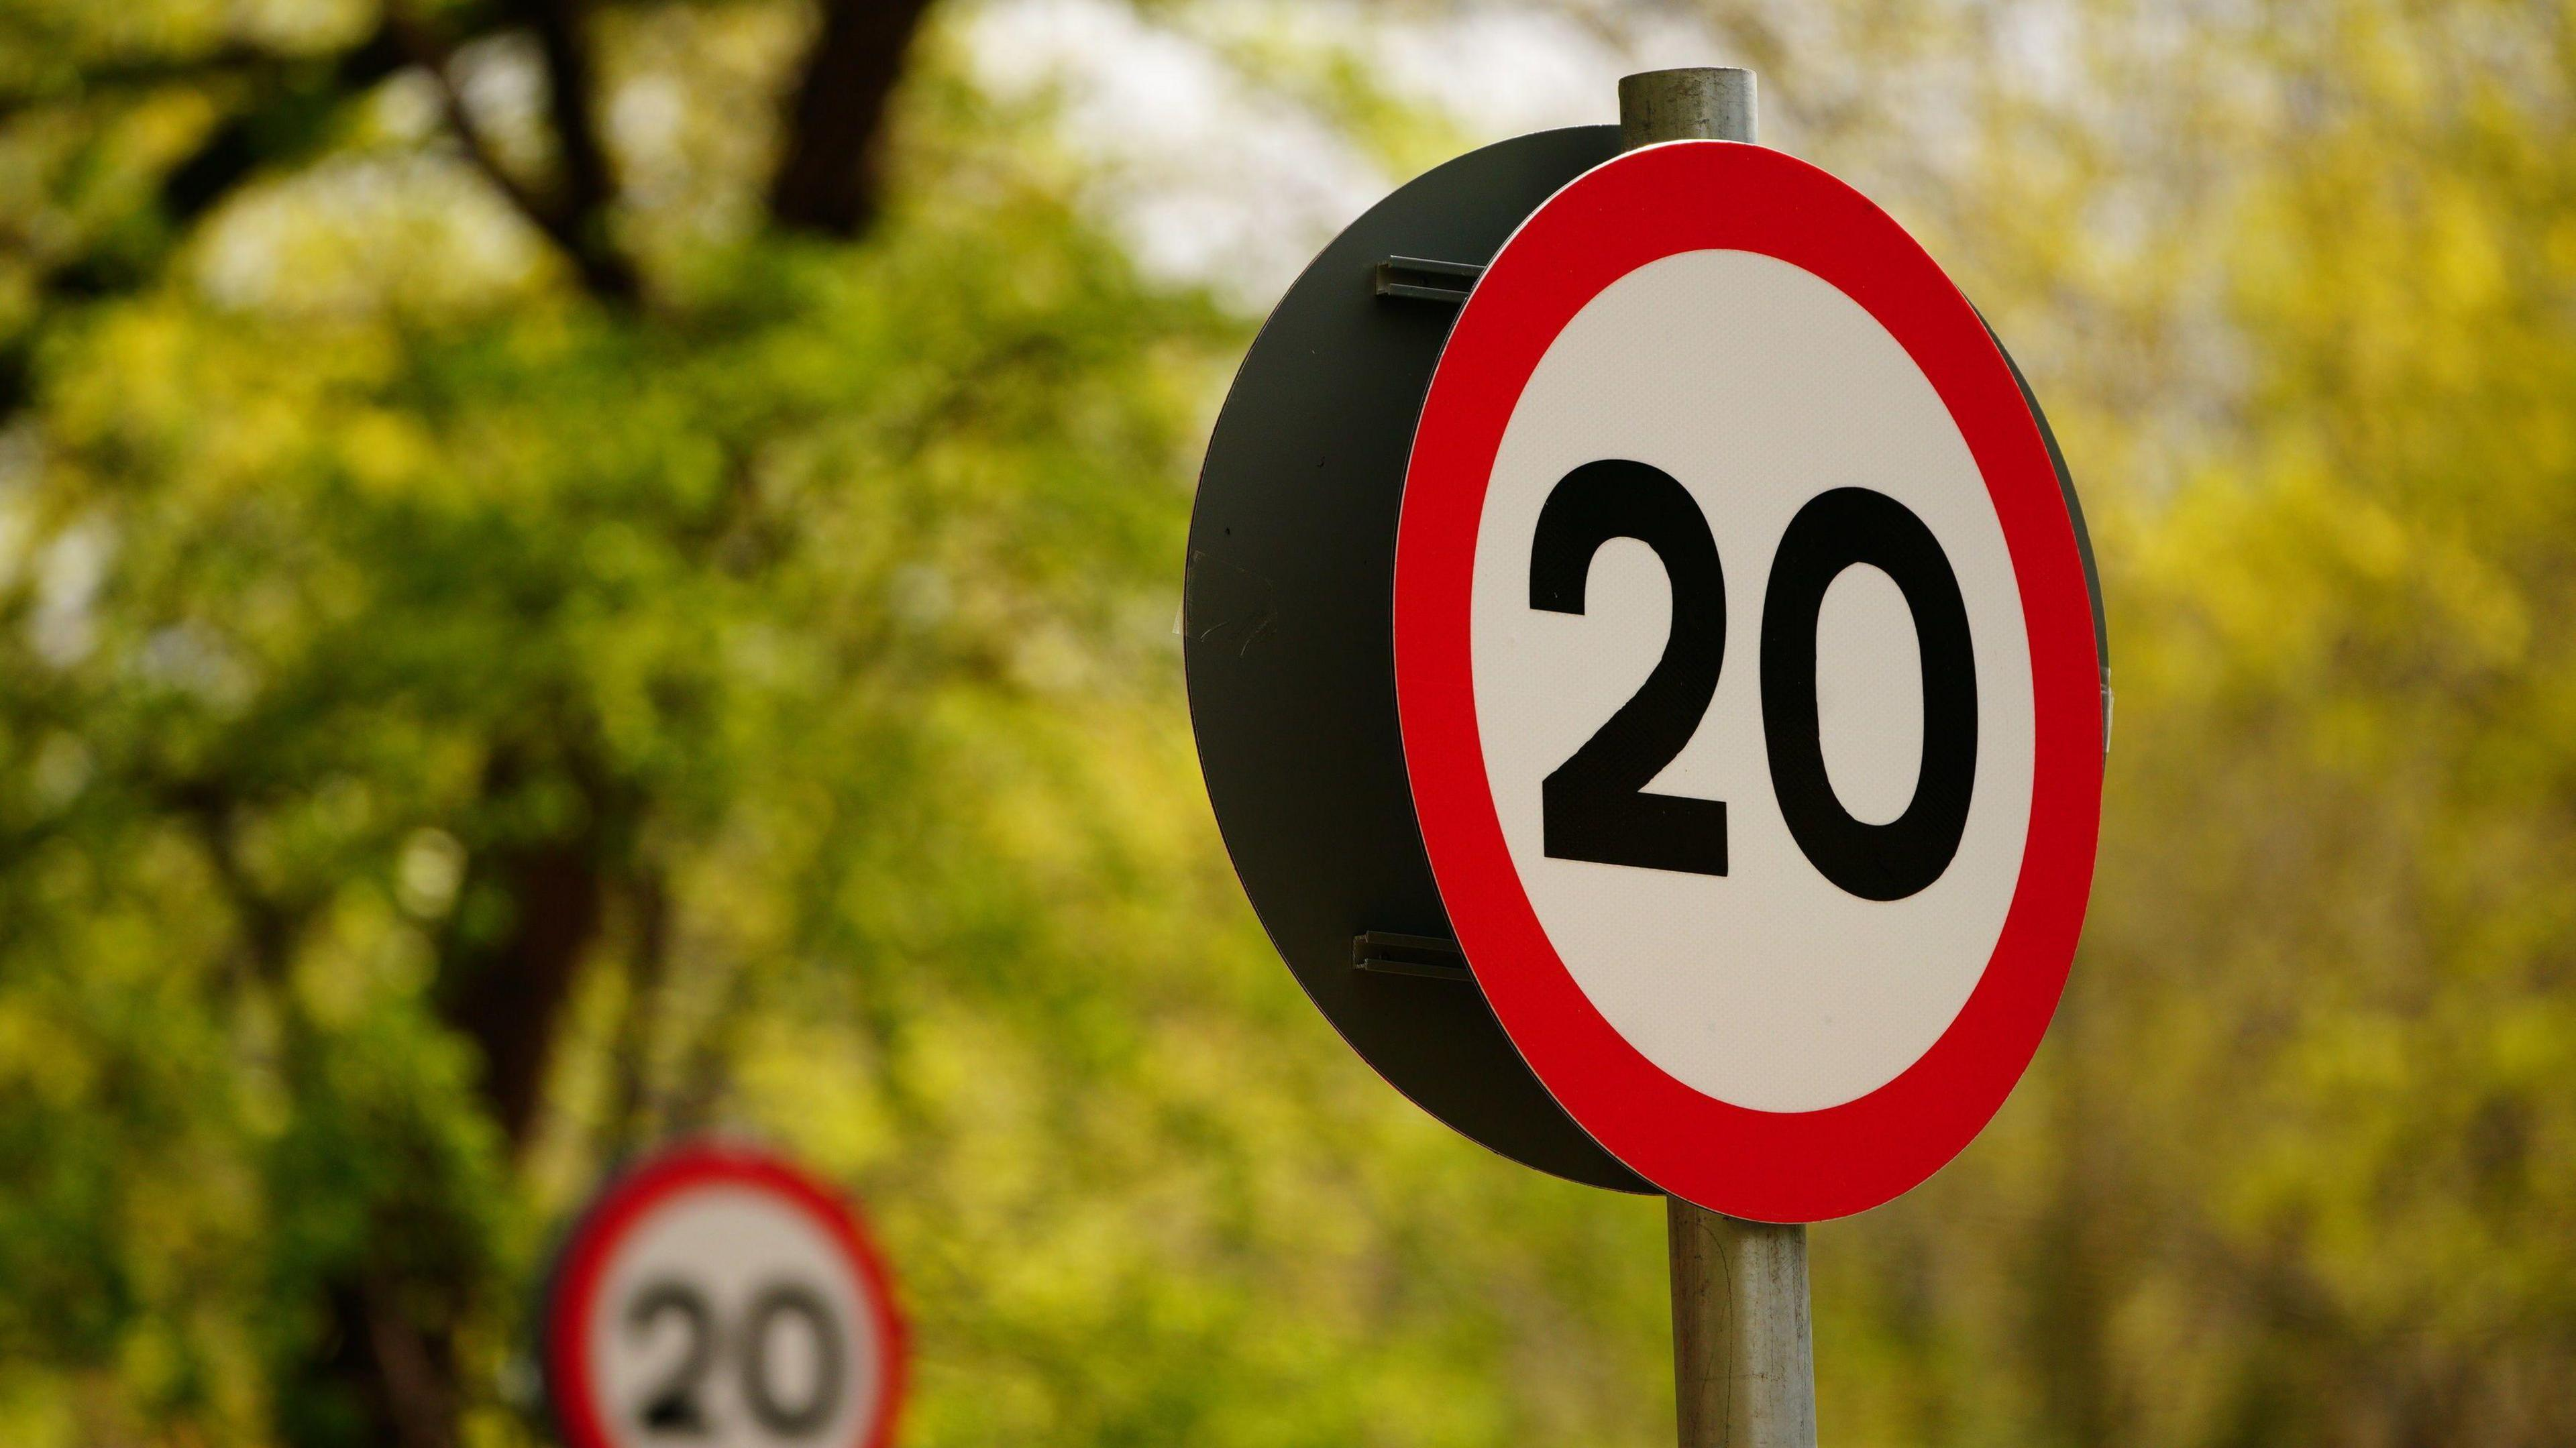traffic sign: (1132, 25, 2180, 1441), (502, 1133, 931, 1448)
